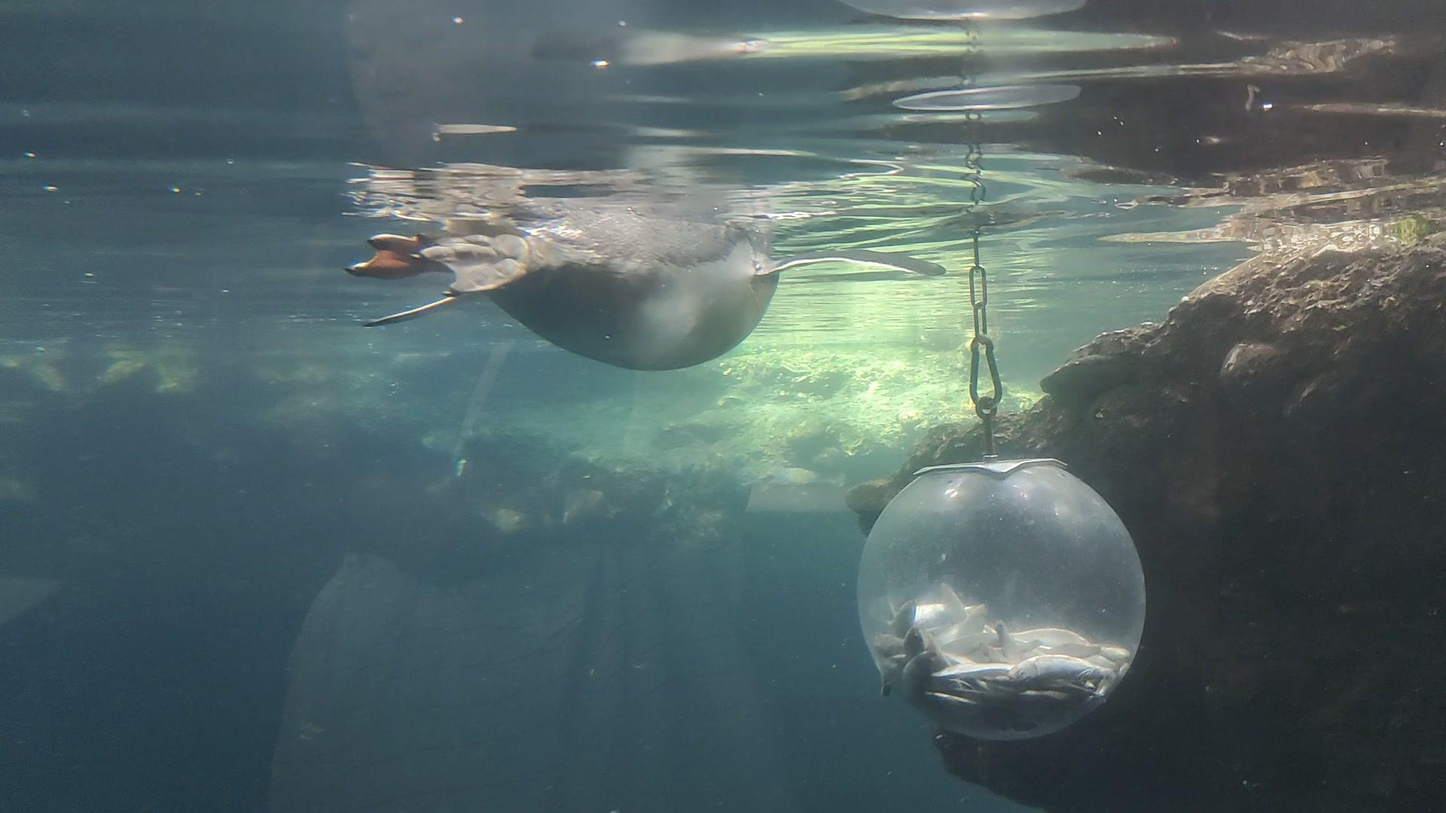apple: (344, 215, 946, 372)
